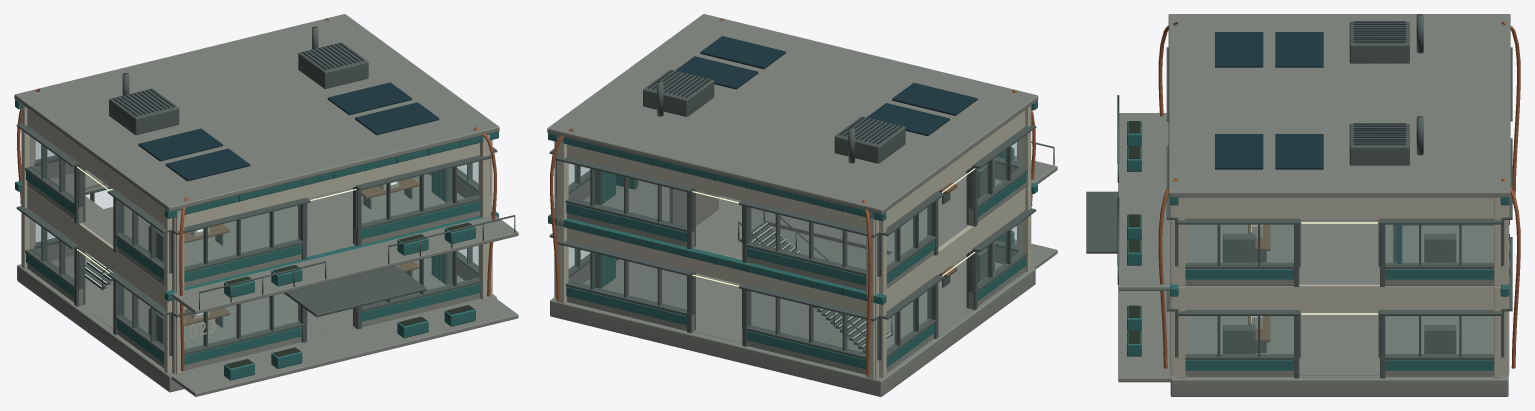
The model's file is utility.glb.
3 views of the same model, side by side, from view 1: azimuth 30°, elevation 25°; view 2: azimuth 150°, elevation 25°; view 3: azimuth 270°, elevation 25° (orthographic). The views are drawn at different scales.
Parts seen in each view (by area): view 1: utility; view 2: utility; view 3: utility.
Boxes of the visible parts, x1,y1,x2,y2 form: utility: (14,14,518,396); utility: (547,14,1057,396); utility: (1086,14,1520,396).
Bounding box in the file's own units: 21.2 × 13.3 × 21.6.
